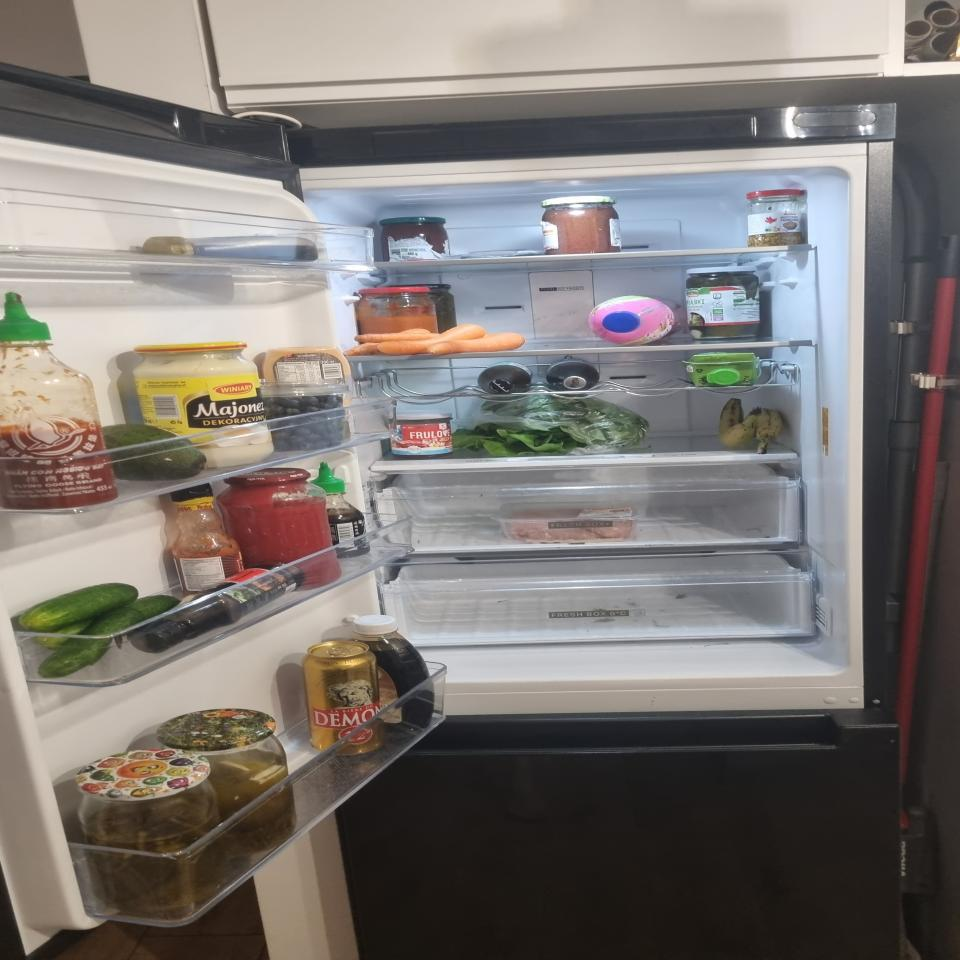Carne pollo: (499, 504, 640, 543)
Lechuga/Endivia: (458, 396, 644, 456)
Pepino: (19, 582, 139, 632), (95, 593, 183, 634), (38, 635, 106, 679)
Plátano: (717, 398, 783, 456)
Zanahoria: (350, 324, 525, 354)
